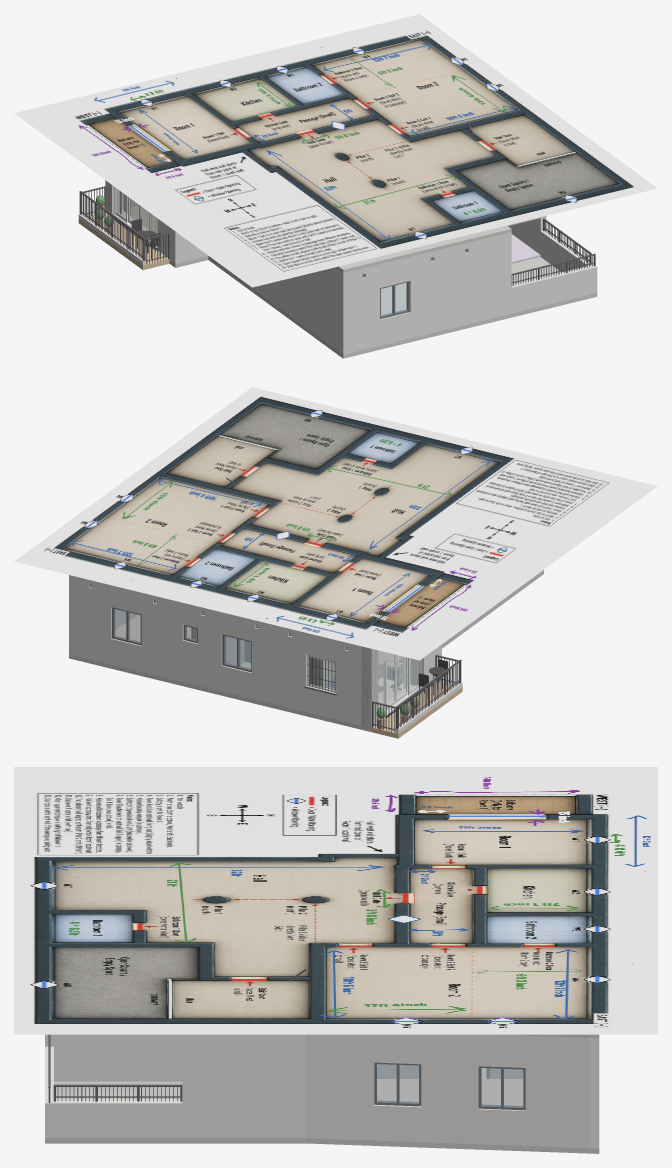
File: MyFlat_V1_1_Room1_OPTION_E.glb
The picture shows the model from 3 angles, top to bottom: view 1: azimuth 30°, elevation 25°; view 2: azimuth 150°, elevation 25°; view 3: azimuth 270°, elevation 25°; orthographic projection. The views are drawn at different scales.
Visible parts, largest first — view 1: PLAN_REFERENCE_OVERLAY, WALL_EXT_S_HALL, WALL_EXT_W_HALL, SLAB_FLOOR_STRUCTURAL, PARAPET_OPENSQ_S, BALCONY_RAILING_W, SLAB_ROOF, BALCONY_FLOOR, PARAPET_OPENSQ_E, WALL_EXT_W_R1_BALCONY, RAILING_OPENSQ_S, WALL_EXT_E_STAIR (+4 smaller); view 2: PLAN_REFERENCE_OVERLAY, WALL_EXT_N_R2, WALL_EXT_N_R1, WALL_EXT_N_KIT, WALL_EXT_N_B2, SLAB_FLOOR_STRUCTURAL, BALCONY_RAILING_W, PILLAR_R1_NW, BALCONY_FLOOR, WALL_EXT_W_R1_BALCONY, R1_OPE_BALCONY_CURTAIN_SHEER, WALL_EXT_E_R2_TAPERED (+2 smaller); view 3: PLAN_REFERENCE_OVERLAY, WALL_EXT_E_R2_TAPERED, WALL_EXT_E_STAIR, WALL_INT_OPENSQ_W, PARAPET_OPENSQ_E, SLAB_FLOOR_STRUCTURAL, FLOOR_R2, WINDOW_W5_GLASS, FLOOR_OPENSQ, WINDOW_W6_GLASS, RAILING_OPENSQ_E, WALL_EXT_N_R2 (+4 smaller).
Boxes of the visible parts, box(x1,y1,x2,y2) form: PLAN_REFERENCE_OVERLAY: box(14, 14, 657, 287); WALL_EXT_S_HALL: box(340, 232, 511, 354); WALL_EXT_W_HALL: box(209, 256, 348, 354); SLAB_FLOOR_STRUCTURAL: box(169, 256, 597, 358); PARAPET_OPENSQ_S: box(511, 264, 597, 313); BALCONY_RAILING_W: box(79, 191, 144, 260); SLAB_ROOF: box(335, 225, 511, 273); BALCONY_FLOOR: box(78, 213, 169, 269); PARAPET_OPENSQ_E: box(540, 230, 593, 272); WALL_EXT_W_R1_BALCONY: box(107, 184, 184, 263); RAILING_OPENSQ_S: box(511, 253, 595, 286); WALL_EXT_E_STAIR: box(508, 216, 546, 254); PLAN_REFERENCE_OVERLAY: box(14, 387, 657, 660); WALL_EXT_N_R2: box(69, 575, 171, 679); WALL_EXT_N_R1: box(265, 623, 372, 727); WALL_EXT_N_KIT: box(208, 609, 264, 701); WALL_EXT_N_B2: box(172, 600, 208, 688); SLAB_FLOOR_STRUCTURAL: box(69, 570, 543, 731); BALCONY_RAILING_W: box(396, 659, 461, 729); PILLAR_R1_NW: box(361, 646, 378, 727); BALCONY_FLOOR: box(371, 681, 462, 738); WALL_EXT_W_R1_BALCONY: box(362, 647, 438, 727); R1_OPE_BALCONY_CURTAIN_SHEER: box(378, 655, 410, 707); WALL_EXT_E_R2_TAPERED: box(69, 575, 138, 655); PLAN_REFERENCE_OVERLAY: box(14, 767, 657, 1034); WALL_EXT_E_R2_TAPERED: box(306, 1034, 590, 1148); WALL_EXT_E_STAIR: box(182, 1034, 305, 1137); WALL_INT_OPENSQ_W: box(54, 1034, 182, 1081); PARAPET_OPENSQ_E: box(54, 1099, 182, 1137); SLAB_FLOOR_STRUCTURAL: box(45, 1081, 599, 1153); FLOOR_R2: box(377, 1079, 523, 1105); WINDOW_W5_GLASS: box(481, 1068, 523, 1106); FLOOR_OPENSQ: box(54, 1081, 182, 1099); WINDOW_W6_GLASS: box(377, 1064, 418, 1103); RAILING_OPENSQ_E: box(53, 1084, 182, 1101); WALL_EXT_N_R2: box(590, 1038, 599, 1148).
Size of what is drawn, in the model's own units: 16.28 by 4.33 by 16.55.
59 materials, 1 textured.
